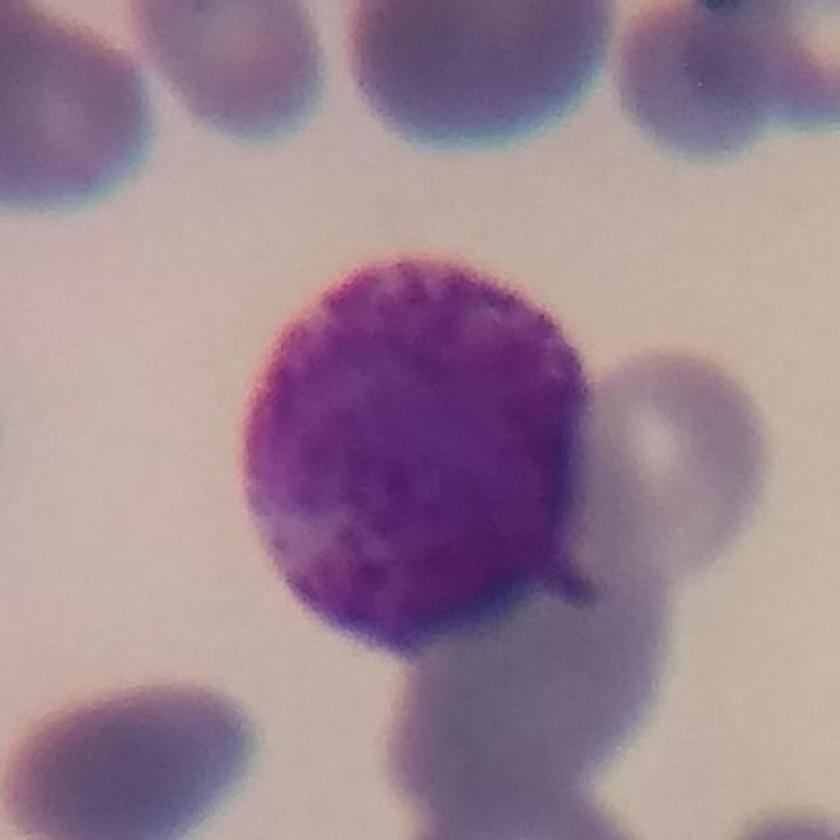basophil: (235, 248, 604, 648)
